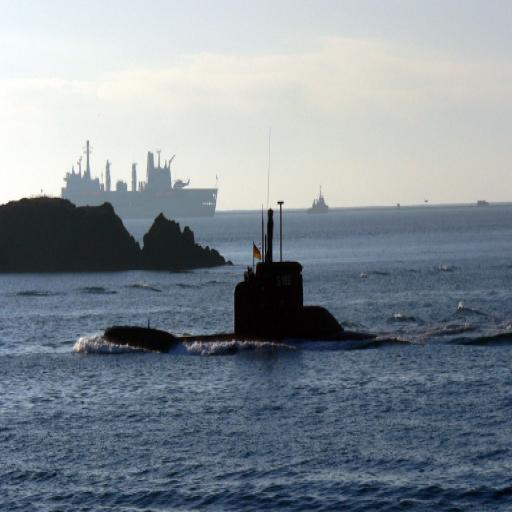submarine: (84, 261, 402, 349)
